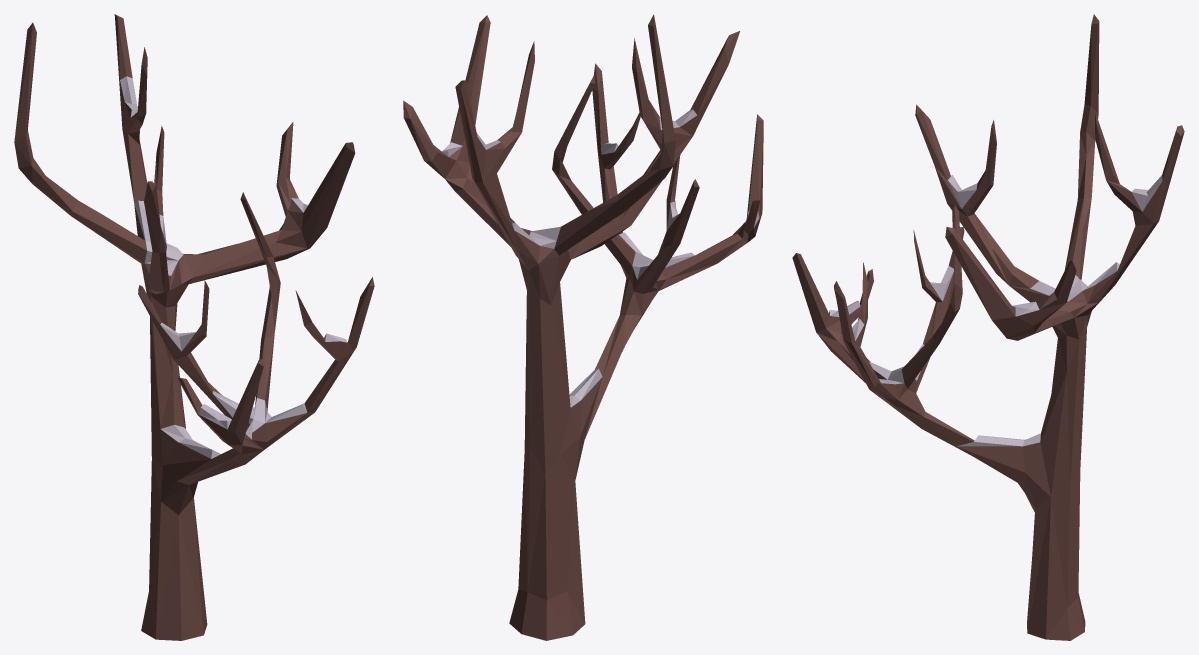
Rendered from CommonTree_Dead_Snow_2.lod2.glb.
The picture shows the model from 3 angles, left to right: view 1: azimuth 30°, elevation 25°; view 2: azimuth 150°, elevation 25°; view 3: azimuth 270°, elevation 25°; orthographic projection. The views are drawn at different scales.
Parts seen in each view (by area): view 1: CommonTree_Dead_Snow_2; view 2: CommonTree_Dead_Snow_2; view 3: CommonTree_Dead_Snow_2.
Boxes of the visible parts, x1=… form: CommonTree_Dead_Snow_2: x1=14, y1=14, x2=374, y2=640; CommonTree_Dead_Snow_2: x1=403, y1=14, x2=763, y2=640; CommonTree_Dead_Snow_2: x1=792, y1=14, x2=1184, y2=640.
Bounding box in the file's own units: 1.34 × 2.95 × 1.87.
